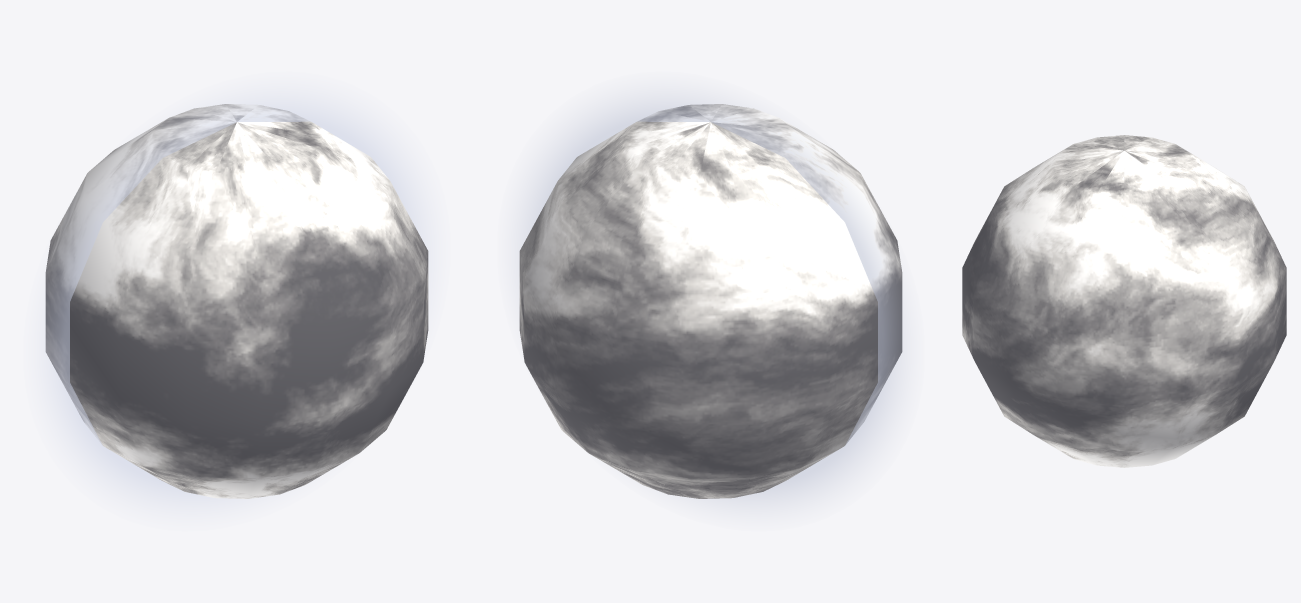
Rendered from mm8_deco_air_orb.glb.
The picture shows the model from 3 angles, left to right: view 1: azimuth 30°, elevation 25°; view 2: azimuth 150°, elevation 25°; view 3: azimuth 270°, elevation 25°; orthographic projection. The views are drawn at different scales.
Parts seen in each view (by area): view 1: Orb; view 2: Orb; view 3: Orb.
Boxes of the visible parts, box(x1,y1,x2,y2) form: Orb: box(38, 88, 435, 514); Orb: box(512, 88, 909, 514); Orb: box(962, 135, 1286, 467).
Size of the model in its own units: 0.9706 by 0.9706 by 0.7279.
Materials: 2 (2 with a texture image).
